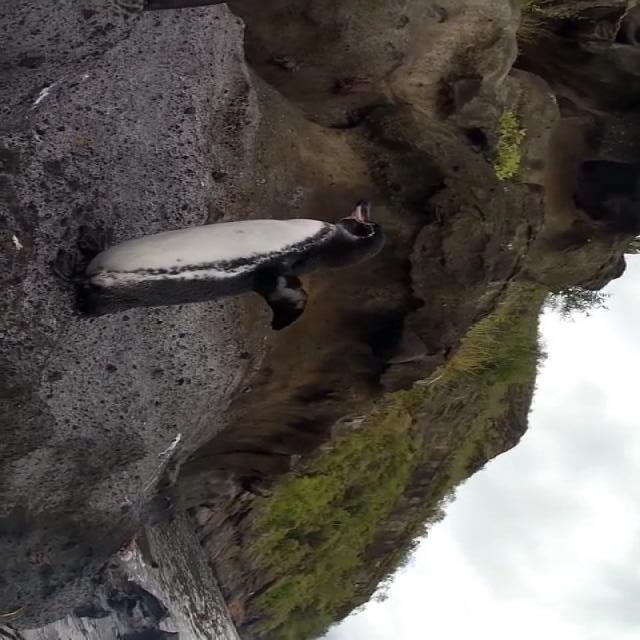penguin: (49, 199, 385, 328)
